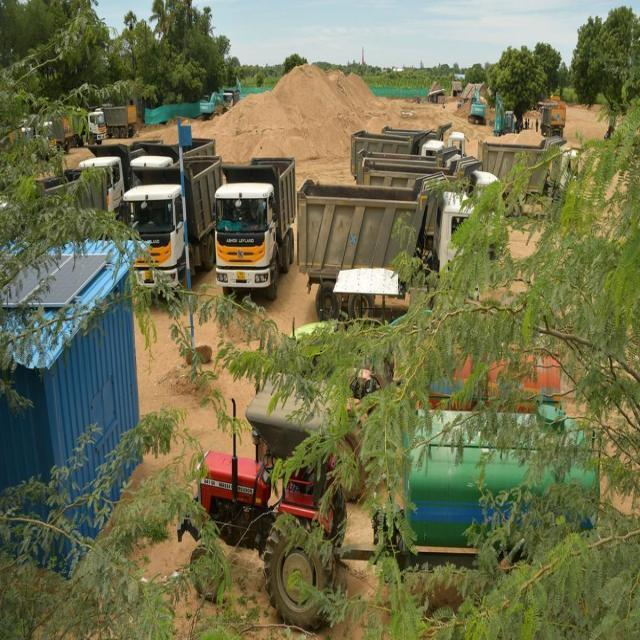uncovered: (118, 139, 292, 297), (302, 170, 424, 274), (222, 156, 298, 258), (477, 132, 567, 218), (151, 153, 217, 254), (344, 136, 422, 168)
